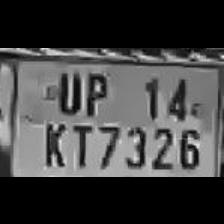1: (137, 70, 161, 118)
2: (148, 120, 174, 170)
3: (120, 120, 148, 168)
4: (162, 72, 190, 120)
6: (175, 120, 203, 170)
7: (94, 118, 120, 168)
K: (39, 116, 67, 168)
P: (80, 66, 110, 114)
T: (68, 118, 94, 166)
U: (53, 62, 83, 114)
